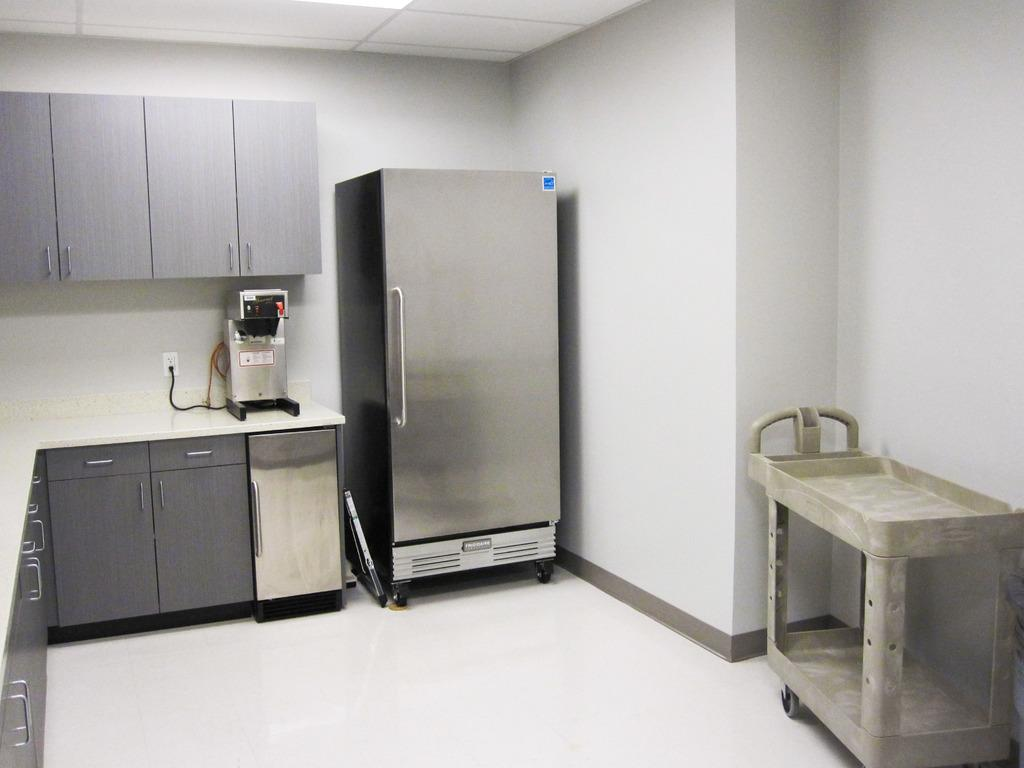cabinet_door: (51, 101, 139, 276), (146, 106, 236, 276), (151, 477, 248, 607), (55, 484, 151, 614), (238, 110, 308, 280), (6, 95, 60, 280), (0, 680, 42, 762), (10, 632, 44, 722), (155, 442, 253, 470), (45, 451, 143, 468)
handle: (386, 286, 412, 422), (248, 482, 270, 562), (10, 685, 28, 752), (30, 514, 52, 568), (14, 674, 32, 726), (28, 552, 46, 604), (40, 240, 59, 285), (26, 557, 40, 609), (241, 237, 259, 273), (60, 234, 74, 278), (86, 452, 120, 468), (222, 238, 236, 273), (134, 479, 146, 516), (13, 539, 35, 559), (20, 499, 40, 520), (153, 472, 163, 508), (184, 449, 217, 459), (30, 474, 44, 486)
